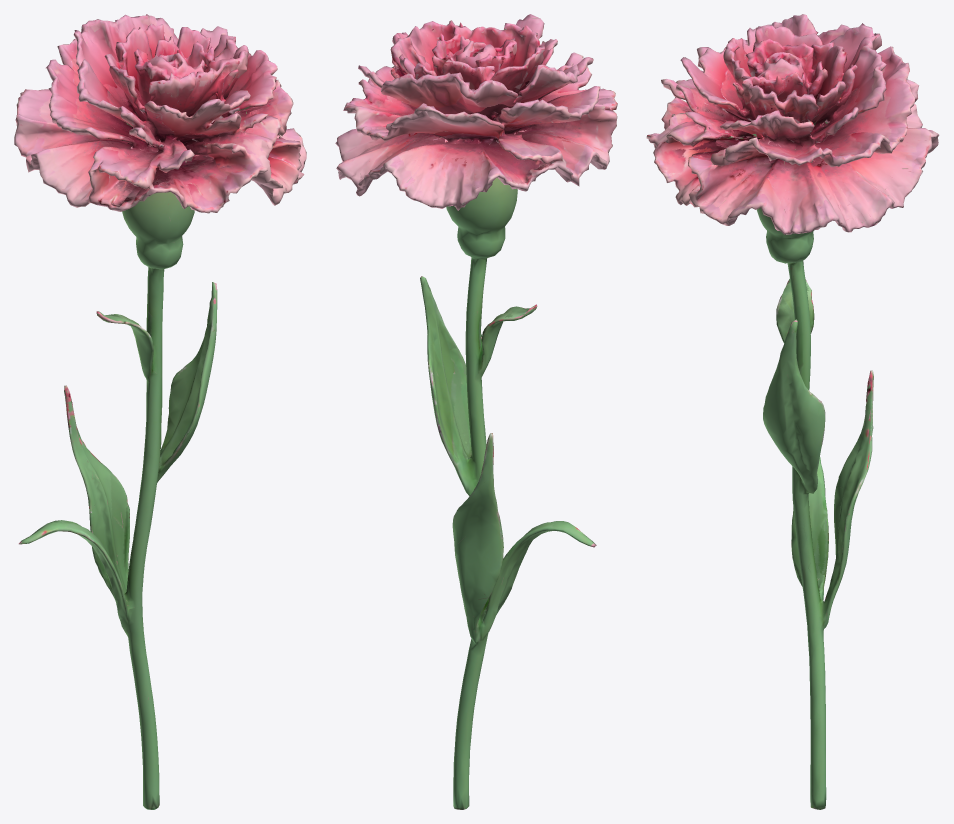
Rendered from gozdzik.glb.
The picture shows the model from 3 angles, left to right: view 1: azimuth 30°, elevation 25°; view 2: azimuth 150°, elevation 25°; view 3: azimuth 270°, elevation 25°; orthographic projection.
Visible parts, largest first — view 1: Mesh_0; view 2: Mesh_0; view 3: Mesh_0.
Boxes of the visible parts, x1,y1,x2,y2 form: Mesh_0: (14,14,306,809); Mesh_0: (335,14,617,809); Mesh_0: (646,14,939,809).
Size of the model in its own units: 0.1744 by 0.5 by 0.1749.
1 material, 1 textured.
